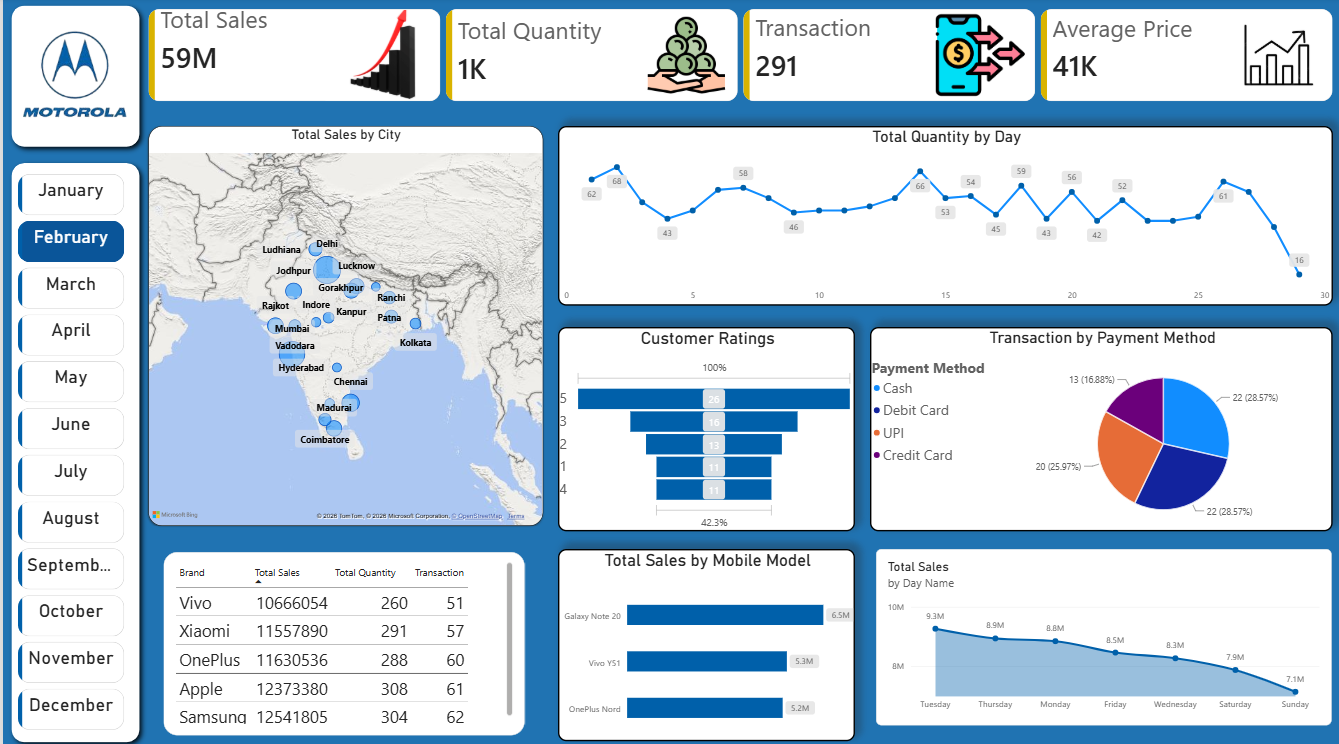

Layout of this report page (visuals, bound fields, positions):
{"tool":"powerbi","page":{"name":"Page 1","canvas":[1920,1080],"ordinal":0},"visuals":[{"type":"shape","box":[0,0,207.6,226.7],"z":0},{"type":"image","box":[20,37.5,167,147.9],"z":1000},{"type":"shape","box":[0,226.7,207.6,854.2],"z":2000},{"type":"advancedSlicerVisual","fields":{"Values":["Sheet1.Date.Variation.Date Hierarchy.Month"]},"box":[21.5,252.9,152.7,804.1],"z":3000},{"type":"cardVisual","fields":{"Data":["Sheet1.Total Sales","Sheet1.Total Quantity","Sheet1.Transaction","Sheet1.Average Price"]},"box":[207.5,17.5,1697.5,132.5],"z":4000},{"type":"map","fields":{"Category":["Sheet1.City"],"Size":["Sheet1.Total Sales"]},"box":[207.5,185,565,572.5],"z":5000},{"type":"lineChart","fields":{"Y":["Sheet1.Total Quantity"],"Category":["Sheet1.Date.Variation.Date Hierarchy.Month","Sheet1.Date.Variation.Date Hierarchy.Day"]},"box":[795,185,1110,257.5],"z":6000},{"type":"barChart","fields":{"Category":["Sheet1.Mobile Model"],"Y":["Sheet1.Total Sales"]},"box":[795,790,425,275],"z":7000},{"type":"pieChart","fields":{"Y":["Sheet1.Transaction"],"Category":["Sheet1.Payment Method"]},"box":[1242.5,472.5,662.5,292.5],"z":8000},{"type":"funnel","title":"Customer Ratings","fields":{"Category":["Sheet1.Customer Ratings"],"Y":["CountNonNull(Sheet1.Customer Ratings)"]},"box":[795,472.5,425,292.5],"z":9000},{"type":"areaChart","fields":{"Category":["Sheet1.Day Name"],"Y":["Sheet1.Total Sales"]},"box":[1250,790,652.5,252.5],"z":10000},{"type":"tableEx","fields":{"Values":["Sheet1.Brand","Sheet1.Total Sales","Sheet1.Total Quantity","Sheet1.Transaction"]},"box":[230,795,517.5,262.5],"z":11000}]}

Visuals, with their boxes in screenshot pixels (x1, y1, x2, y2), scaled from the page's 1920x1080 canvas onto the 1339x744 screenshot:
shape: x1=0, y1=0, x2=145, y2=156
image: x1=14, y1=26, x2=130, y2=128
shape: x1=0, y1=156, x2=145, y2=743
advancedSlicerVisual - Sheet1.Date.Variation.Date Hierarchy.Month: x1=15, y1=174, x2=121, y2=728
cardVisual - Sheet1.Total Sales x Sheet1.Total Quantity: x1=145, y1=12, x2=1329, y2=103
map - Sheet1.City x Sheet1.Total Sales: x1=145, y1=127, x2=539, y2=522
lineChart - Sheet1.Total Quantity x Sheet1.Date.Variation.Date Hierarchy.Month: x1=554, y1=127, x2=1329, y2=305
barChart - Sheet1.Mobile Model x Sheet1.Total Sales: x1=554, y1=544, x2=851, y2=734
pieChart - Sheet1.Transaction x Sheet1.Payment Method: x1=867, y1=326, x2=1329, y2=527
"Customer Ratings" funnel: x1=554, y1=326, x2=851, y2=527
areaChart - Sheet1.Day Name x Sheet1.Total Sales: x1=872, y1=544, x2=1327, y2=718
tableEx - Sheet1.Brand x Sheet1.Total Sales: x1=160, y1=548, x2=521, y2=728
